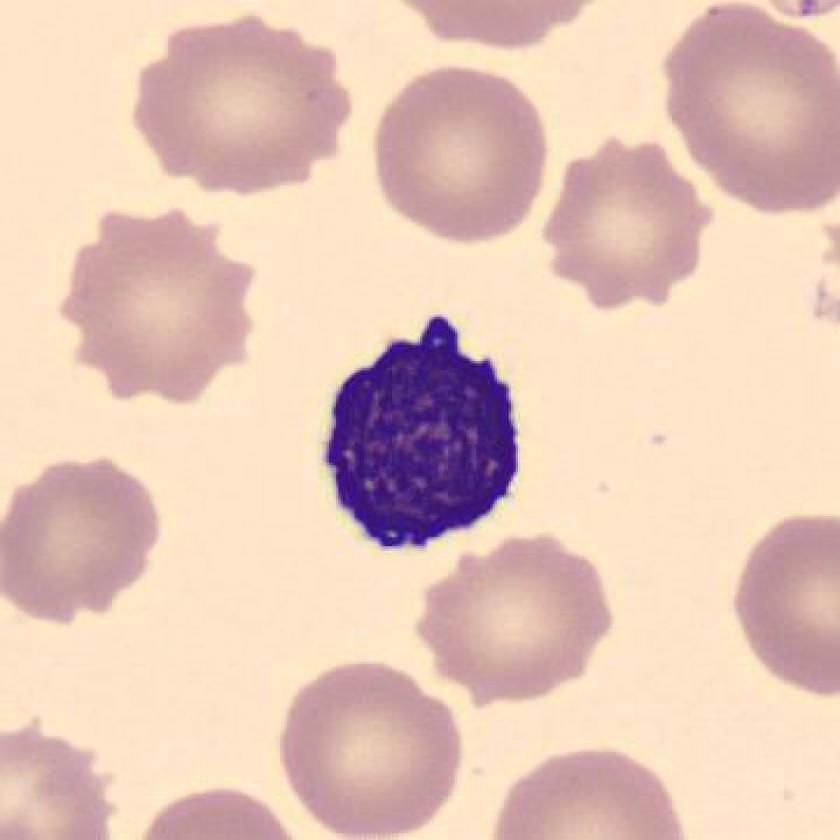lymphocyte: (302, 309, 542, 570)
